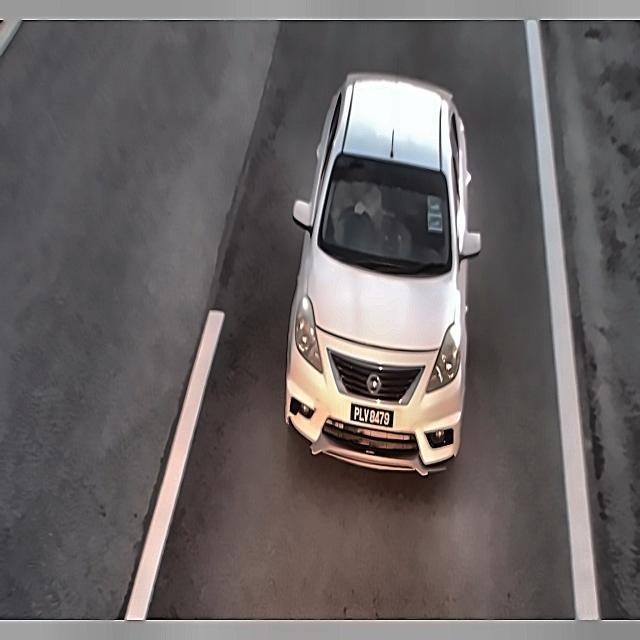car: (346, 399, 398, 434)
